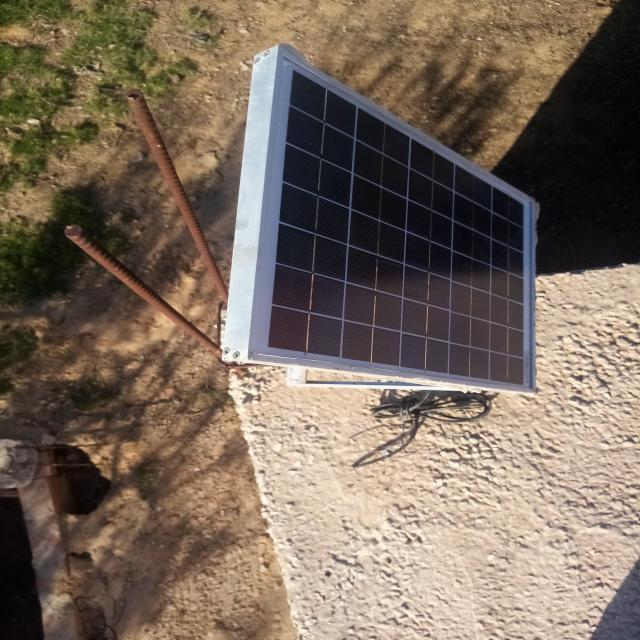no faulty: (248, 48, 536, 391)
